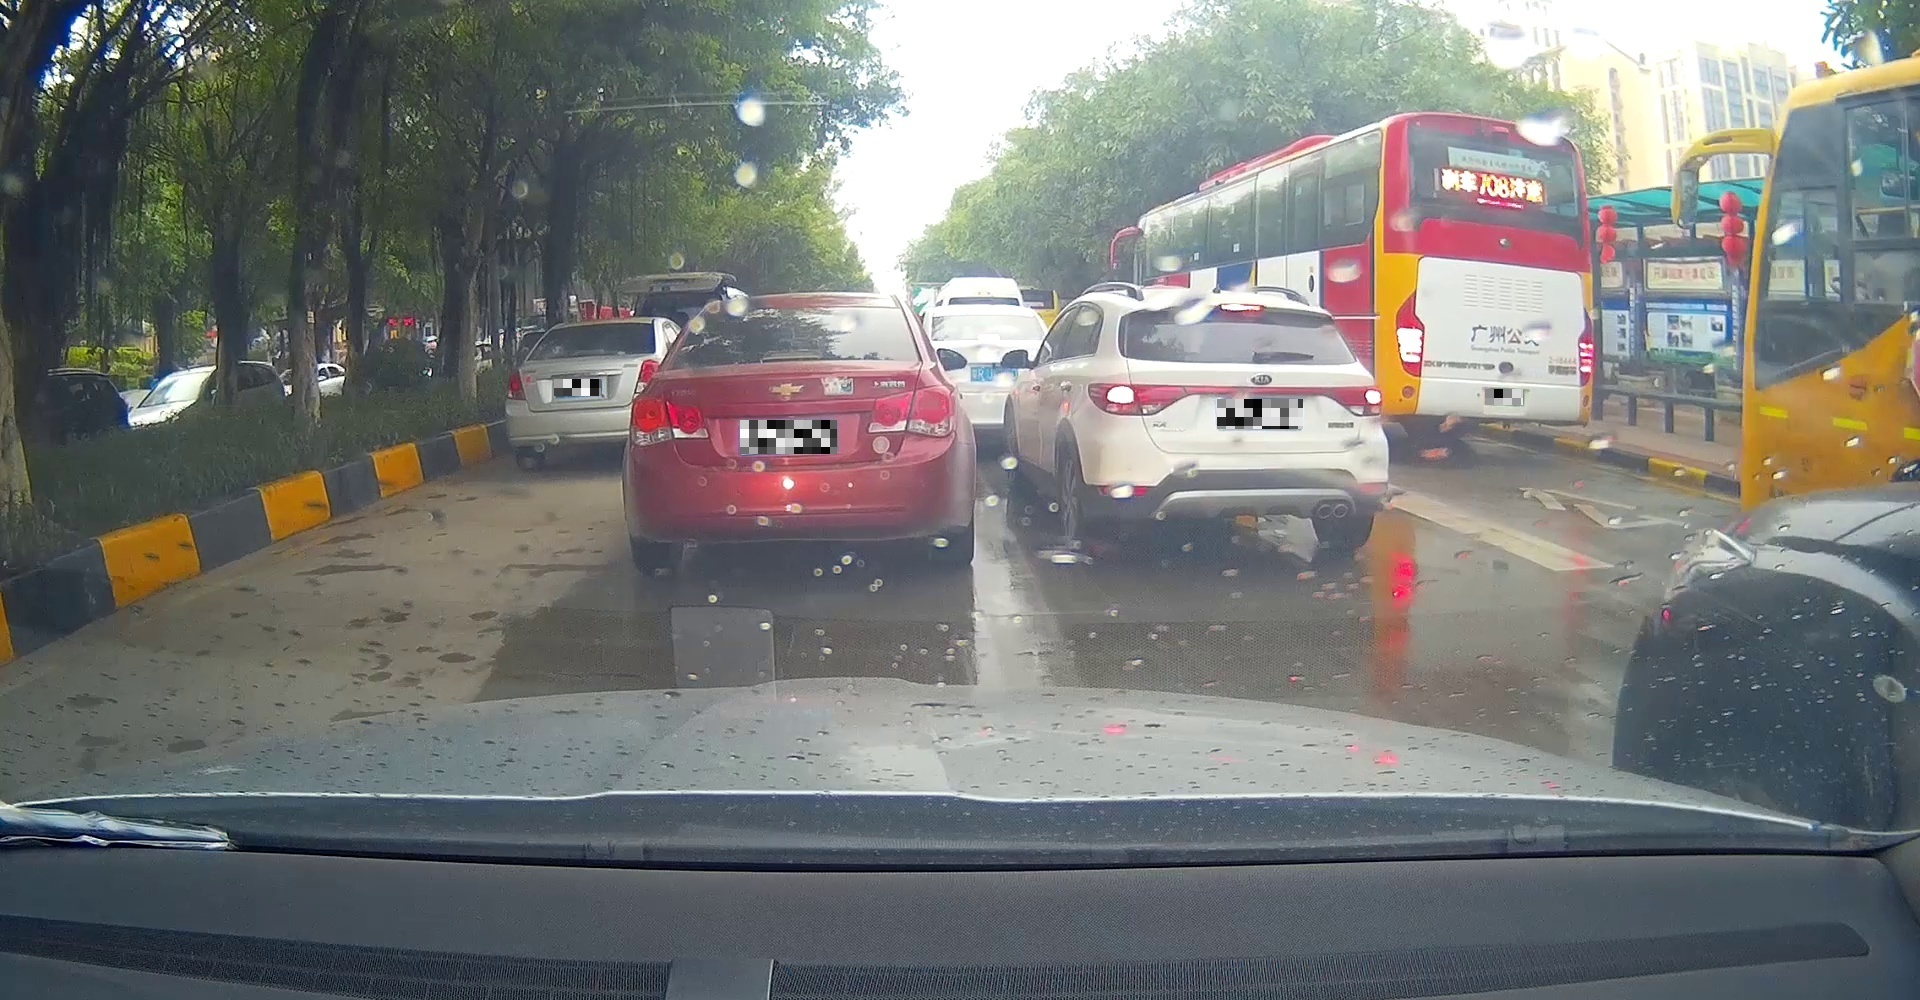L_light: (629, 395, 709, 447), (1087, 383, 1191, 416)
R_light: (867, 385, 955, 438), (1322, 386, 1383, 418)
T_light: (761, 349, 823, 360), (1220, 303, 1263, 313)
day-brake: (1083, 298, 1388, 549)
day-no: (623, 293, 974, 577)
plate_1: (554, 379, 601, 396)
plate_2: (740, 420, 837, 454)
plate_3: (1217, 398, 1303, 429)
plate_4: (1484, 390, 1523, 405)
